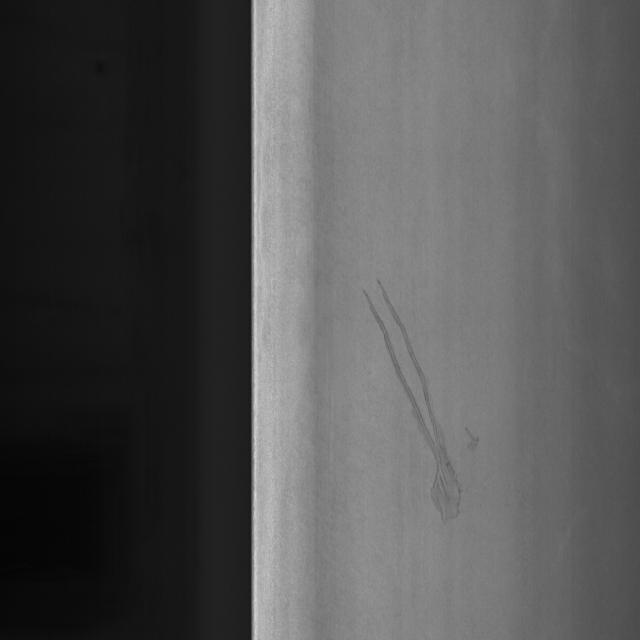water_spot: (357, 262, 495, 526)
